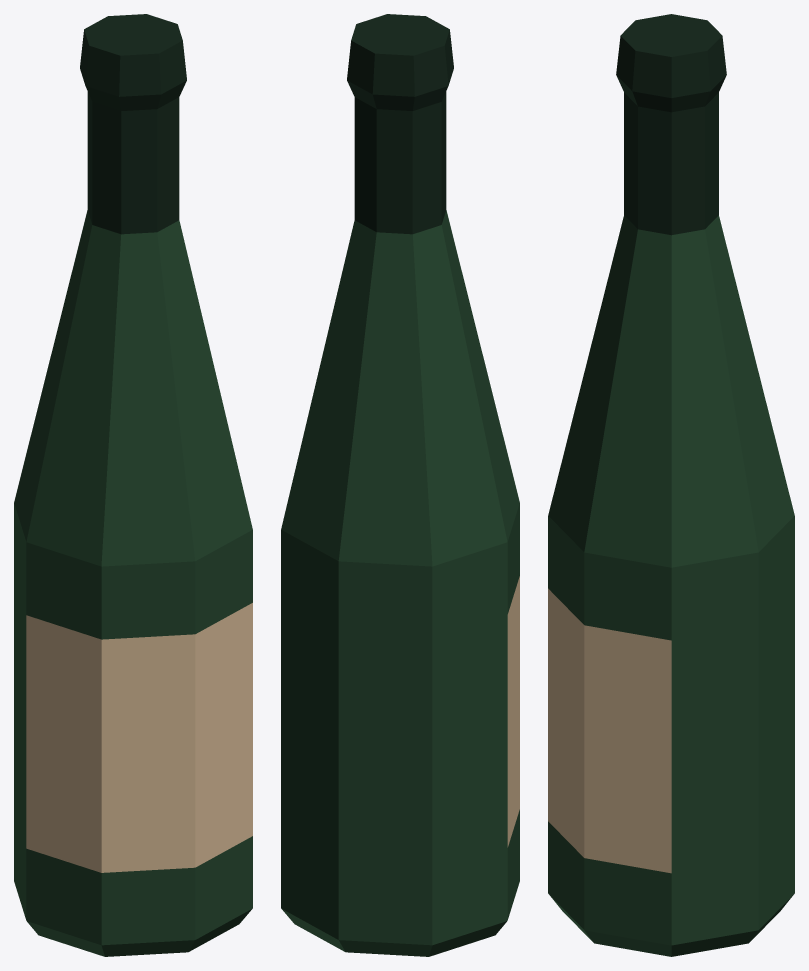
File: food_wine-bottle-white.fbx
The picture shows the model from 3 angles, left to right: view 1: azimuth 30°, elevation 25°; view 2: azimuth 150°, elevation 25°; view 3: azimuth 270°, elevation 25°; orthographic projection.
Visible parts, largest first — view 1: food_wine_bottle_white; view 2: food_wine_bottle_white; view 3: food_wine_bottle_white.
Boxes of the visible parts, <box> form: food_wine_bottle_white: <box>14,14,252,956</box>; food_wine_bottle_white: <box>281,14,519,956</box>; food_wine_bottle_white: <box>548,14,794,956</box>.
Bounding box in the file's own units: 51.09 × 200 × 51.09.
